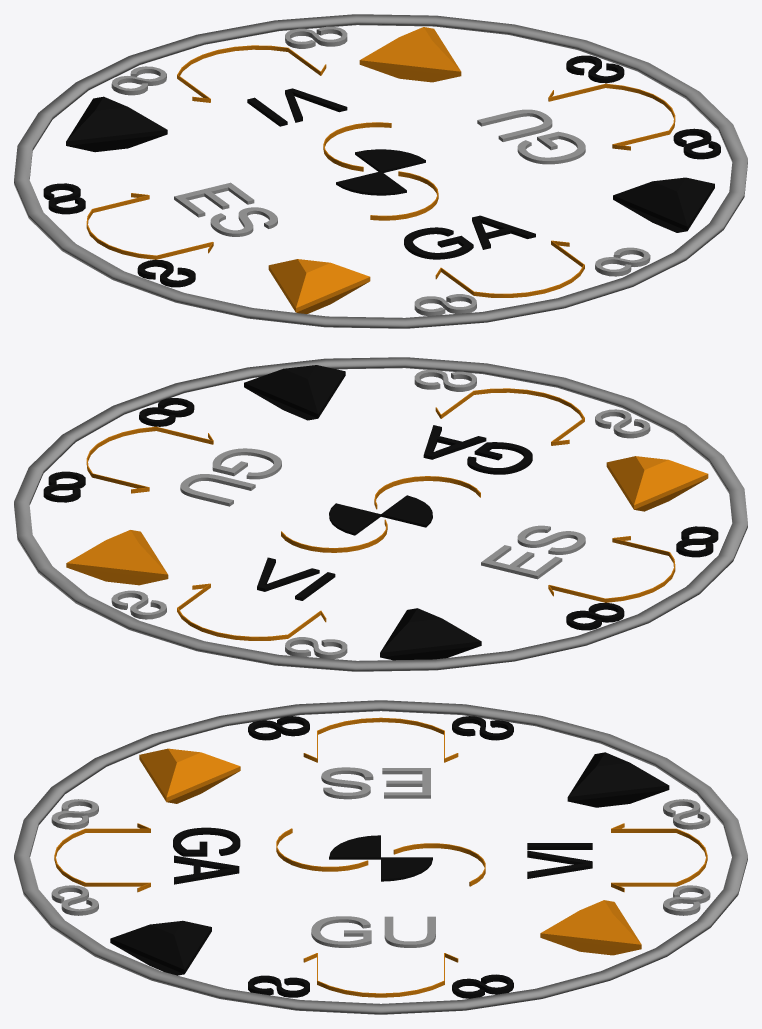
The model's file is pentagrama.FBX.
3 views of the same model, one above another, from view 1: azimuth 30°, elevation 25°; view 2: azimuth 150°, elevation 25°; view 3: azimuth 270°, elevation 25° (orthographic).
Parts seen in each view (by area): view 1: pentagrama; view 2: pentagrama; view 3: pentagrama.
Boxes of the visible parts, x1,y1,x2,y2 form: pentagrama: [14, 14, 747, 328]; pentagrama: [14, 357, 747, 671]; pentagrama: [14, 700, 747, 1014].
Bounding box in the file's own units: 144 × 8.96 × 144.
